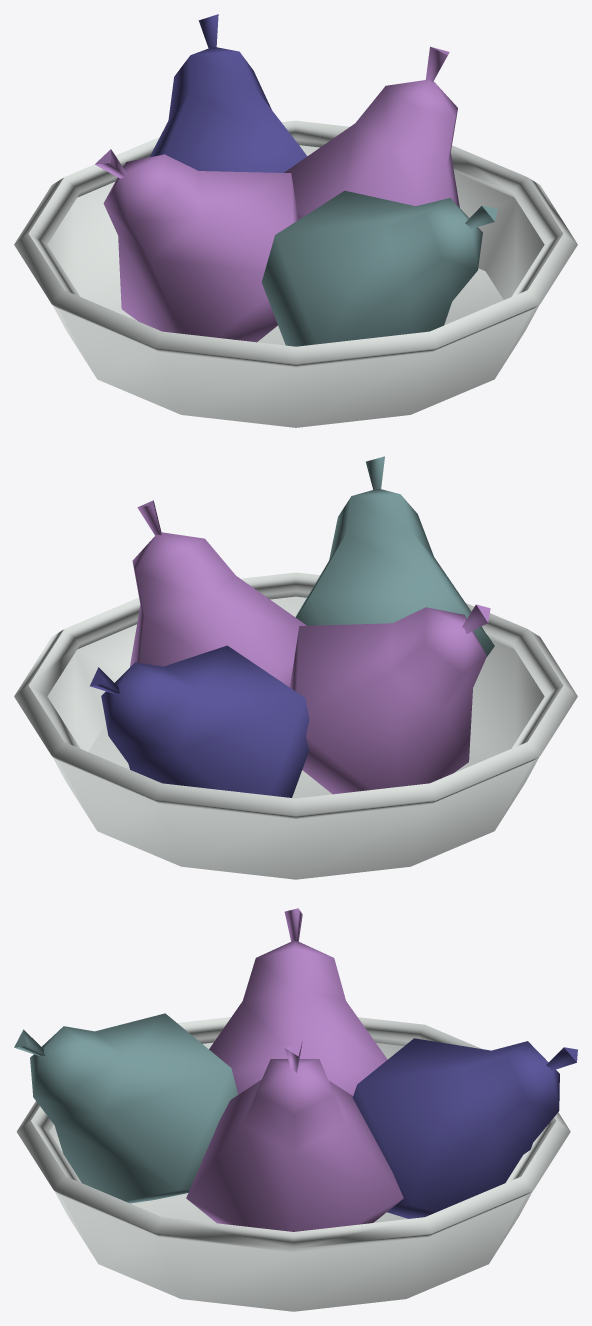
3 renders of one model, top to bottom at view 1: azimuth 30°, elevation 25°; view 2: azimuth 150°, elevation 25°; view 3: azimuth 270°, elevation 25°, orthographic.
Parts seen in each view (by area): view 1: G:\FFXIV-MapTools\exports\n4t1\bg\ex3\01_nvt_n4\twn\n4t1\bgp (×2); view 2: G:\FFXIV-MapTools\exports\n4t1\bg\ex3\01_nvt_n4\twn\n4t1\bgp (×2); view 3: G:\FFXIV-MapTools\exports\n4t1\bg\ex3\01_nvt_n4\twn\n4t1\bgp (×2).
Boxes of the visible parts, <box> form: G:\FFXIV-MapTools\exports\n4t1\bg\ex3\01_nvt_n4\twn\n4t1\bgp (×2): <box>14,14,577,427</box>; G:\FFXIV-MapTools\exports\n4t1\bg\ex3\01_nvt_n4\twn\n4t1\bgp (×2): <box>14,456,577,879</box>; G:\FFXIV-MapTools\exports\n4t1\bg\ex3\01_nvt_n4\twn\n4t1\bgp (×2): <box>14,908,577,1311</box>.
Bounding box in the file's own units: 0.8115 × 0.4012 × 0.8257.
